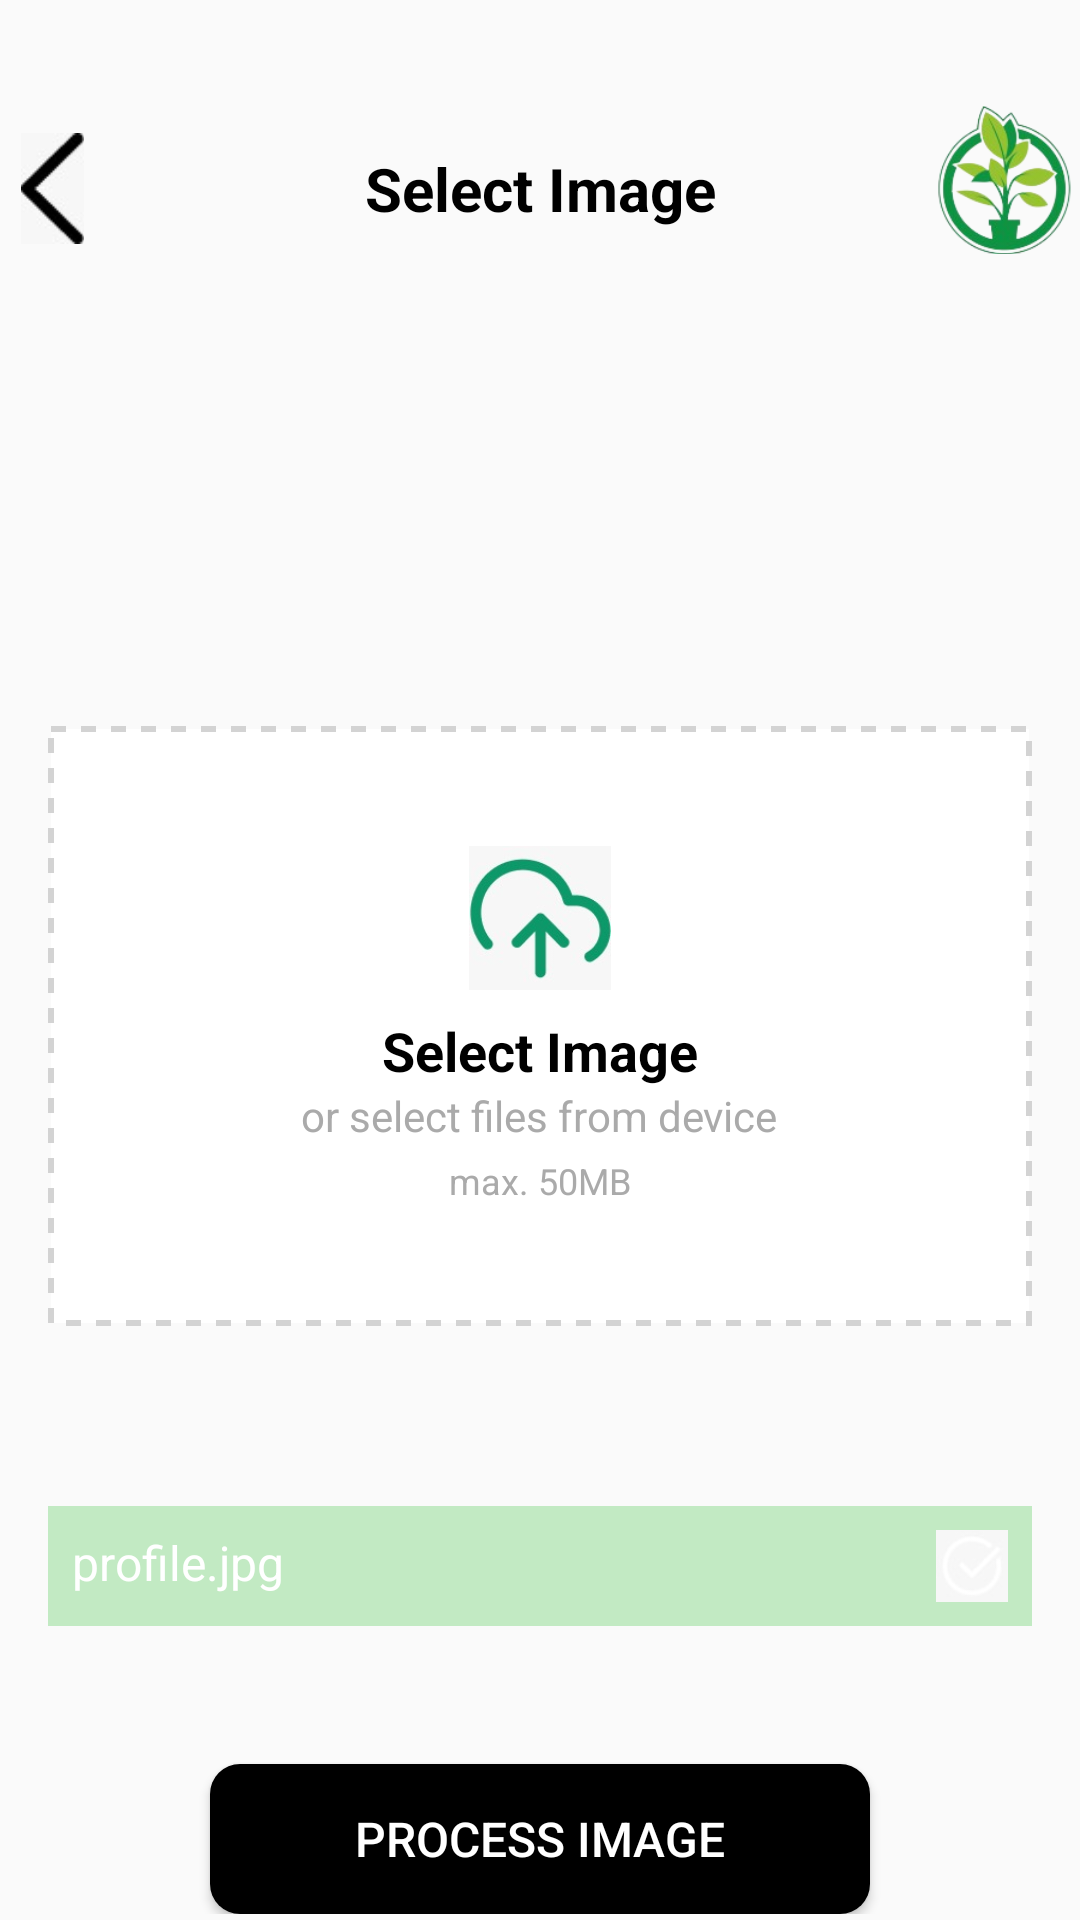

Icons on this 1080 x 1920 Android screen, each with its box as bbox=[x1, y1, x2, y2]:
back: bbox=[21, 133, 84, 244]
upload: bbox=[469, 858, 611, 979]
